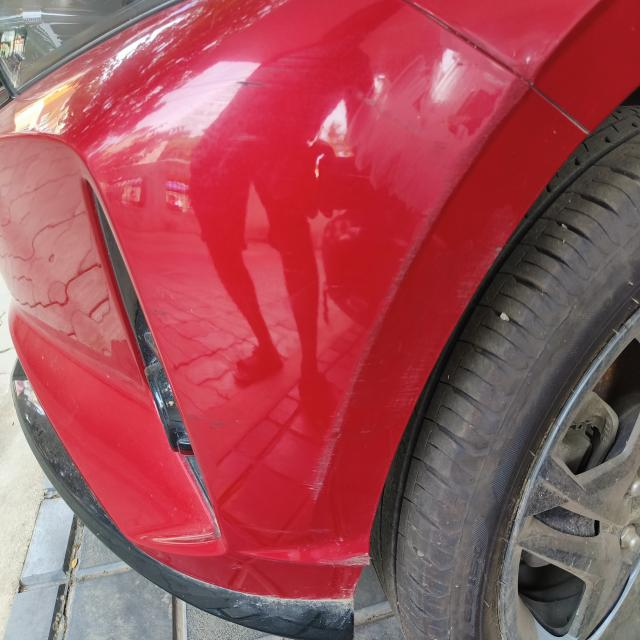scratch: (304, 376, 364, 512), (320, 546, 372, 574), (232, 73, 278, 99)
